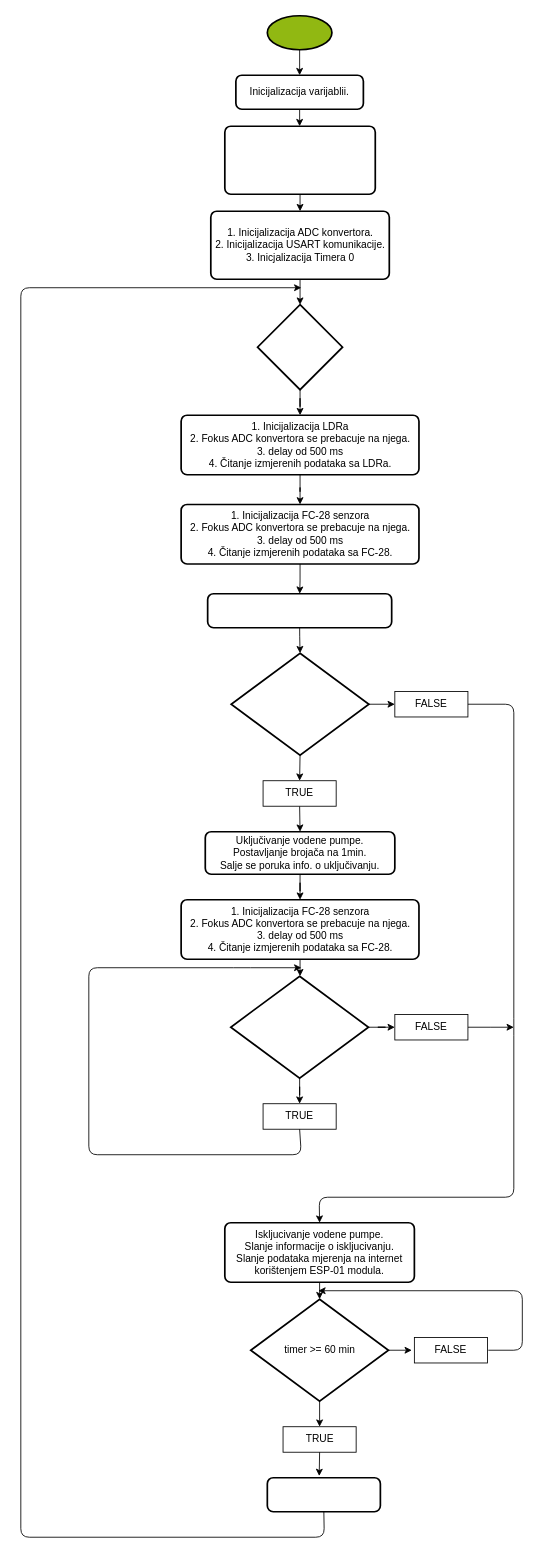
Image size: 544x1559. Some labels were removed from this diagram. Here are the shapes that lost their labels. From the top down, the centre of each, then its label:
point (299, 32): START
point (300, 160): Postavke početnih vrijednosti i inicijalizacija internog oscilatora od 8MHz,
point (299, 346): while(1)
point (299, 610): Mjeri se temperatura i vlažnost vazduha DHT11 senzora.
point (299, 704): soil_humidity<10 AND water_pump = off
point (299, 1027): soil_humidity<30 AND timer < 1min
point (323, 1494): Reset timer
